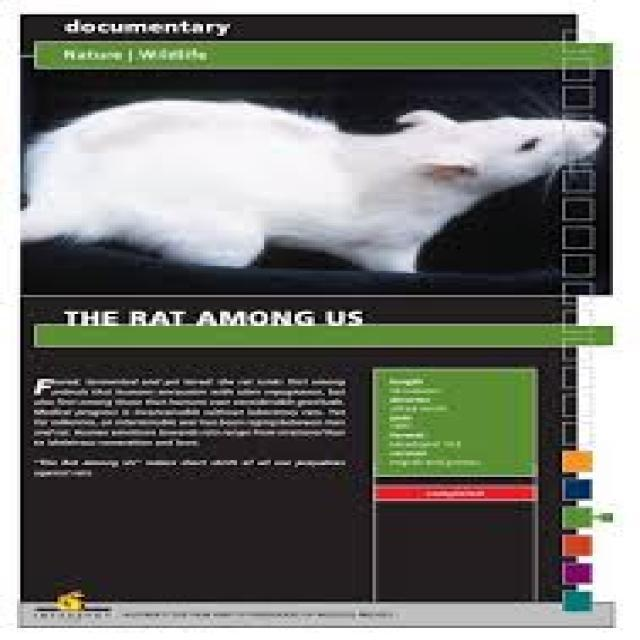Rat: (39, 68, 581, 292)
